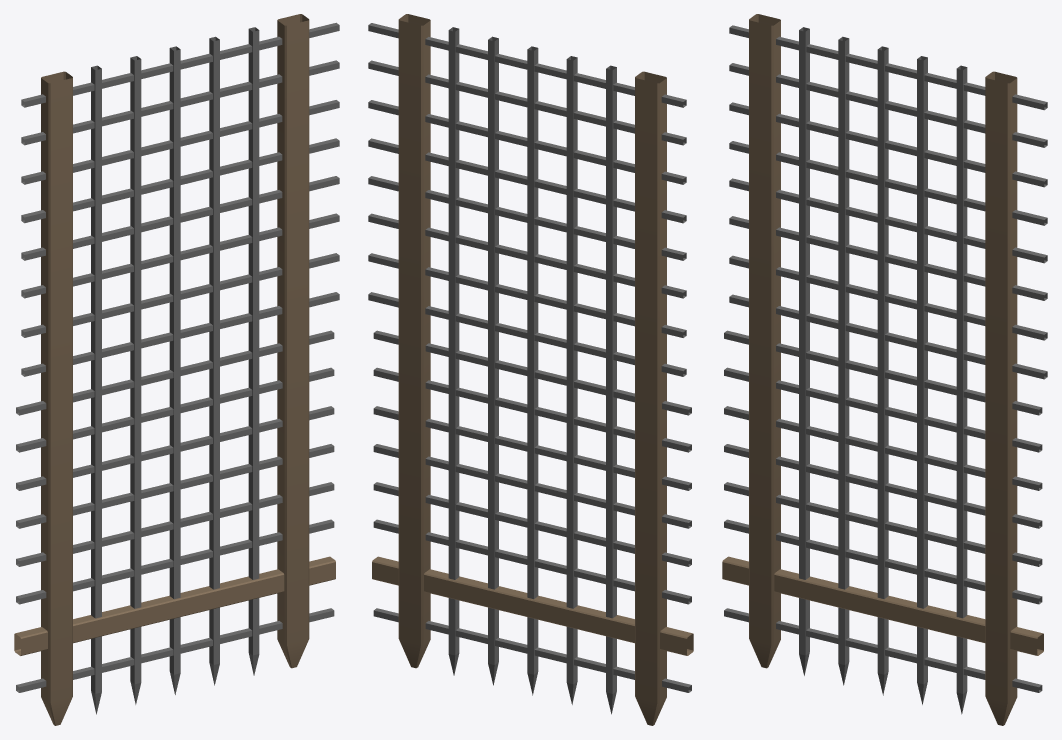
The model's file is castle_portcullis.FBX.
3 views of the same model, side by side, from view 1: azimuth 30°, elevation 25°; view 2: azimuth 150°, elevation 25°; view 3: azimuth 330°, elevation 25° (orthographic).
Visible parts, largest first — view 1: castle_portcullis; view 2: castle_portcullis; view 3: castle_portcullis.
Part boxes in pixels (x1=…): castle_portcullis: x1=14, y1=14, x2=339, y2=725; castle_portcullis: x1=368, y1=14, x2=693, y2=725; castle_portcullis: x1=722, y1=14, x2=1047, y2=725.
Size of the model in its own units: 2.24 by 4.33 by 0.106.
